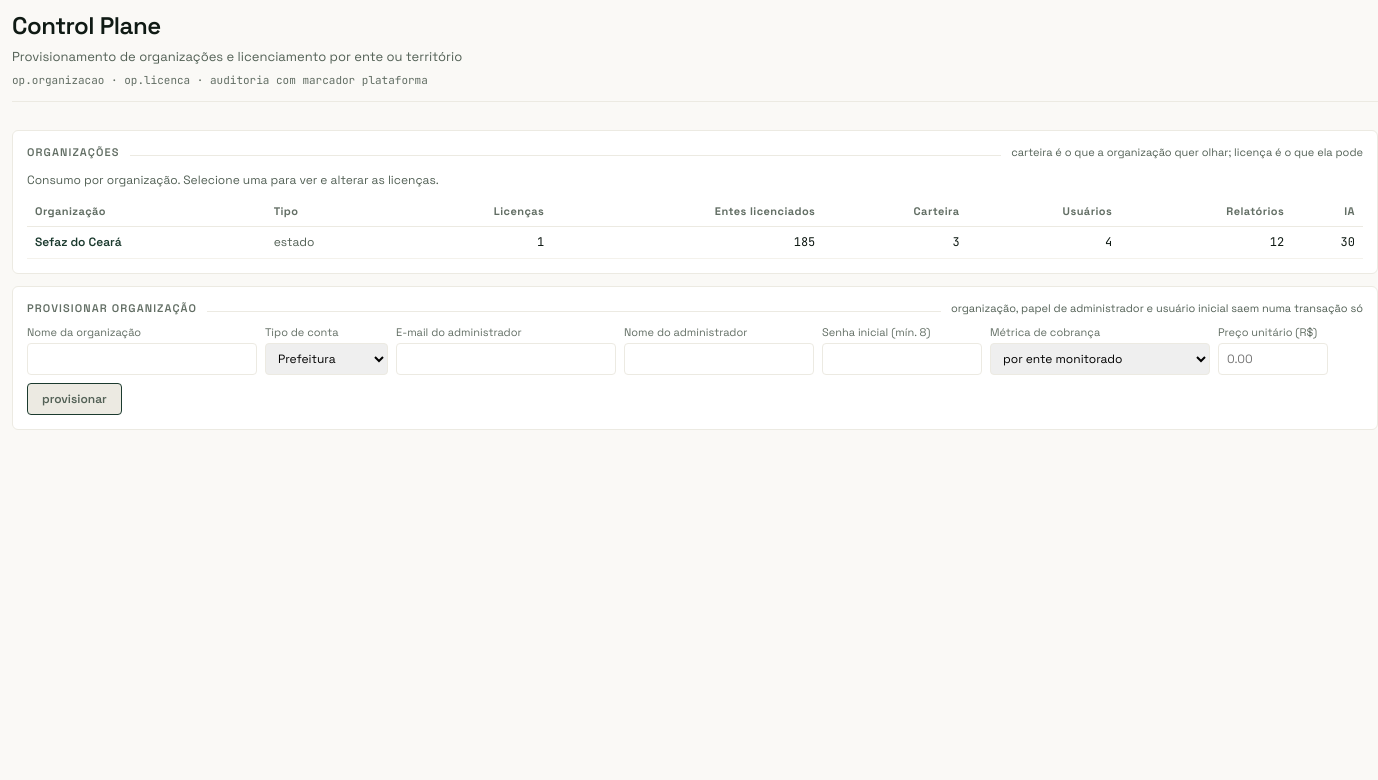
Test case: Sprint 19 — control plane › licença suspensa (ainda dentro do prazo) mostra o status guardado, não "expirada"
Click the button "Sefaz do Ceará" at (78, 243), box [35,234,122,251]
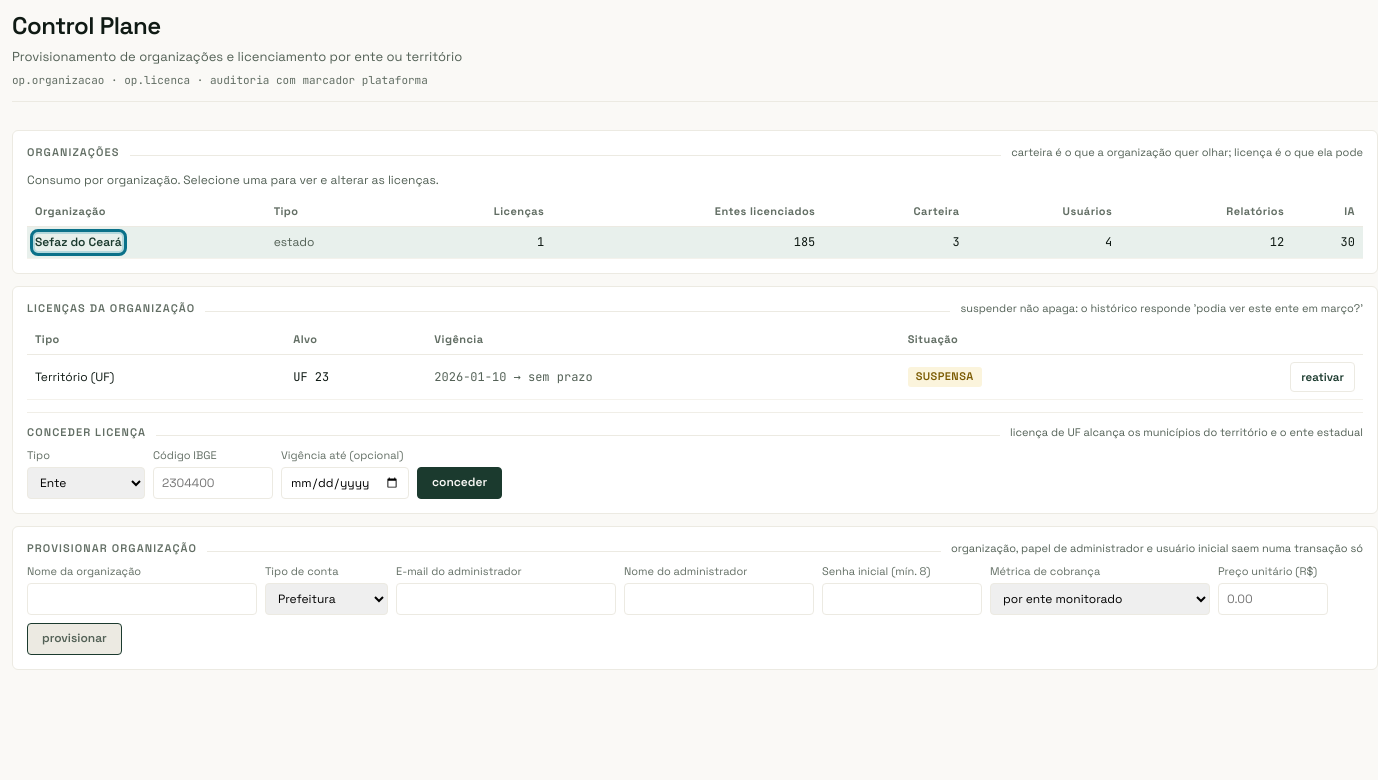
Now the text "suspensa" is shown, box [908,367,982,387]
